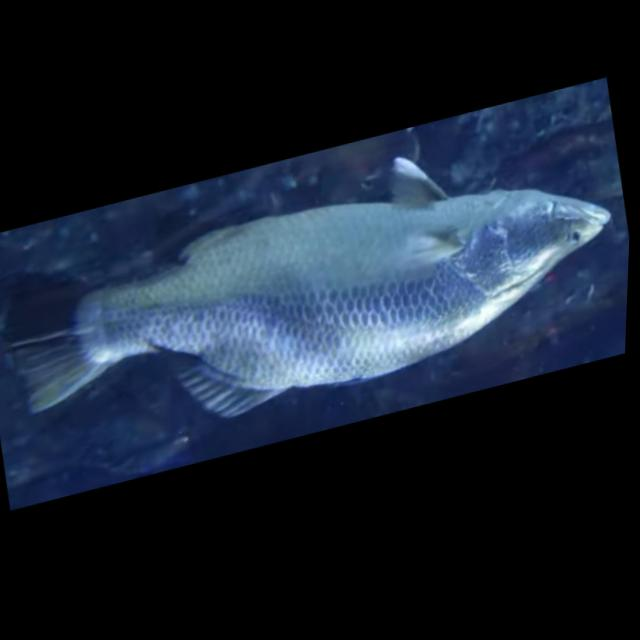Seabass: (0, 108, 634, 482)
